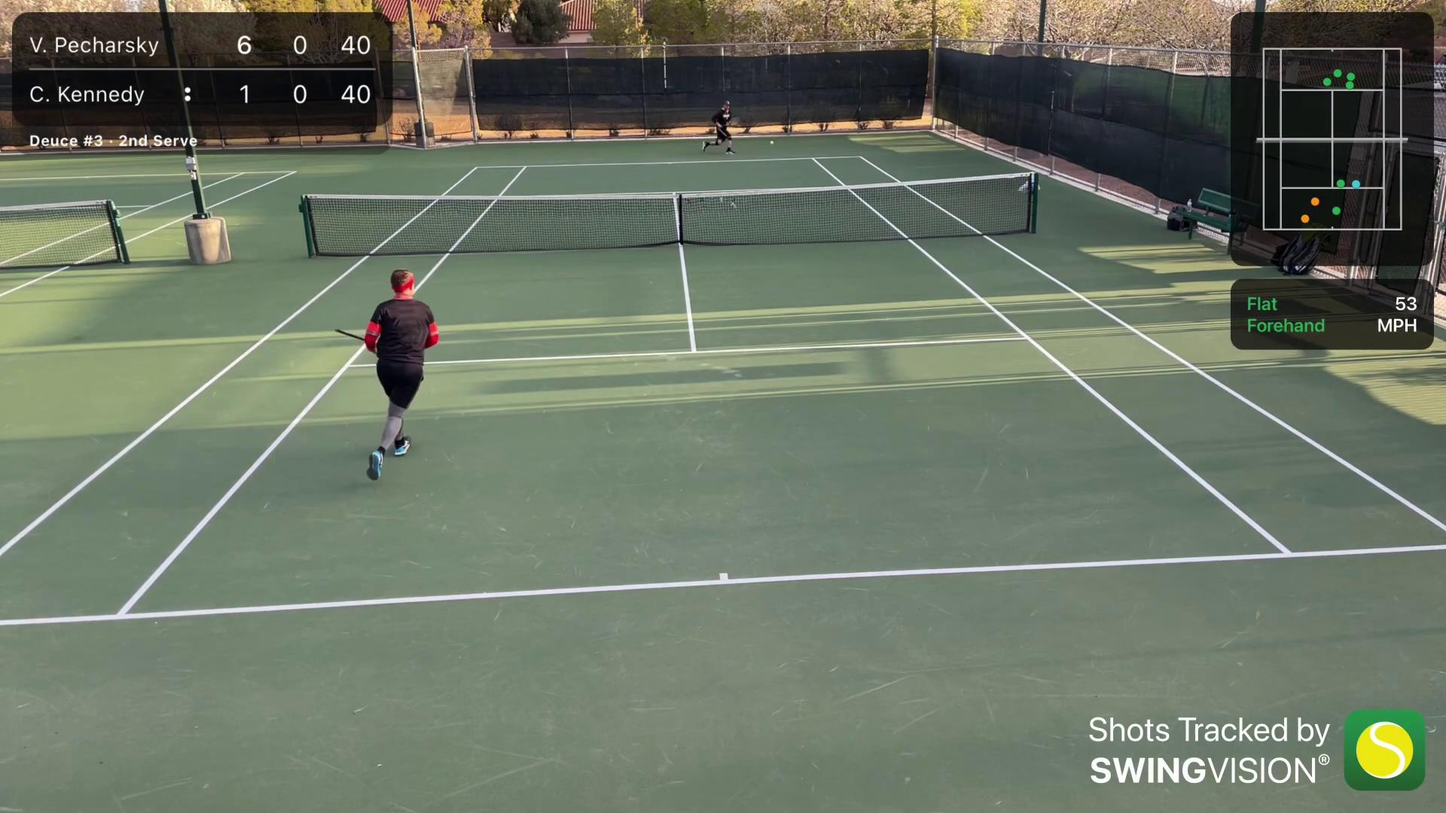ball: (768, 139, 775, 147)
